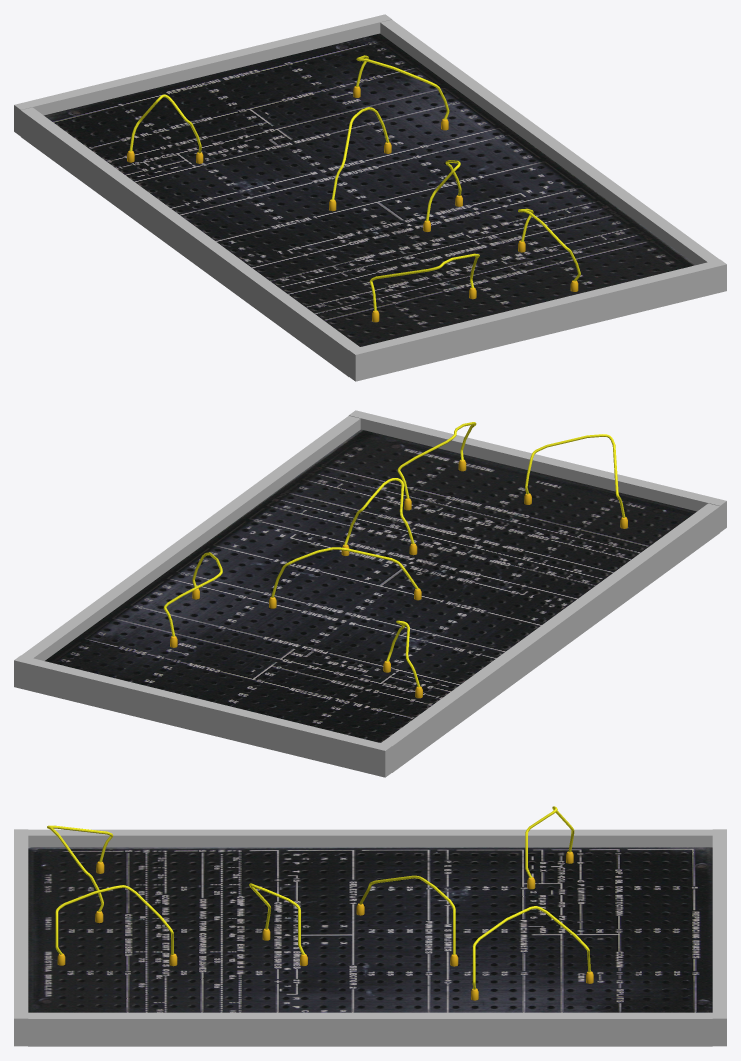
The model's file is plugboard.glb.
3 renders of one model, top to bottom at view 1: azimuth 30°, elevation 25°; view 2: azimuth 150°, elevation 25°; view 3: azimuth 270°, elevation 25°, orthographic. The views are drawn at different scales.
Parts seen in each view (by area): view 1: Cube_1; view 2: Cube_1; view 3: Cube_1.
Part boxes in pixels (x1,y1,x2,y2): Cube_1: (14, 14, 726, 381); Cube_1: (14, 410, 726, 777); Cube_1: (14, 806, 726, 1046).
Bounding box in the file's own units: 0.6278 × 0.1313 × 1.
5 materials, 2 textured.
